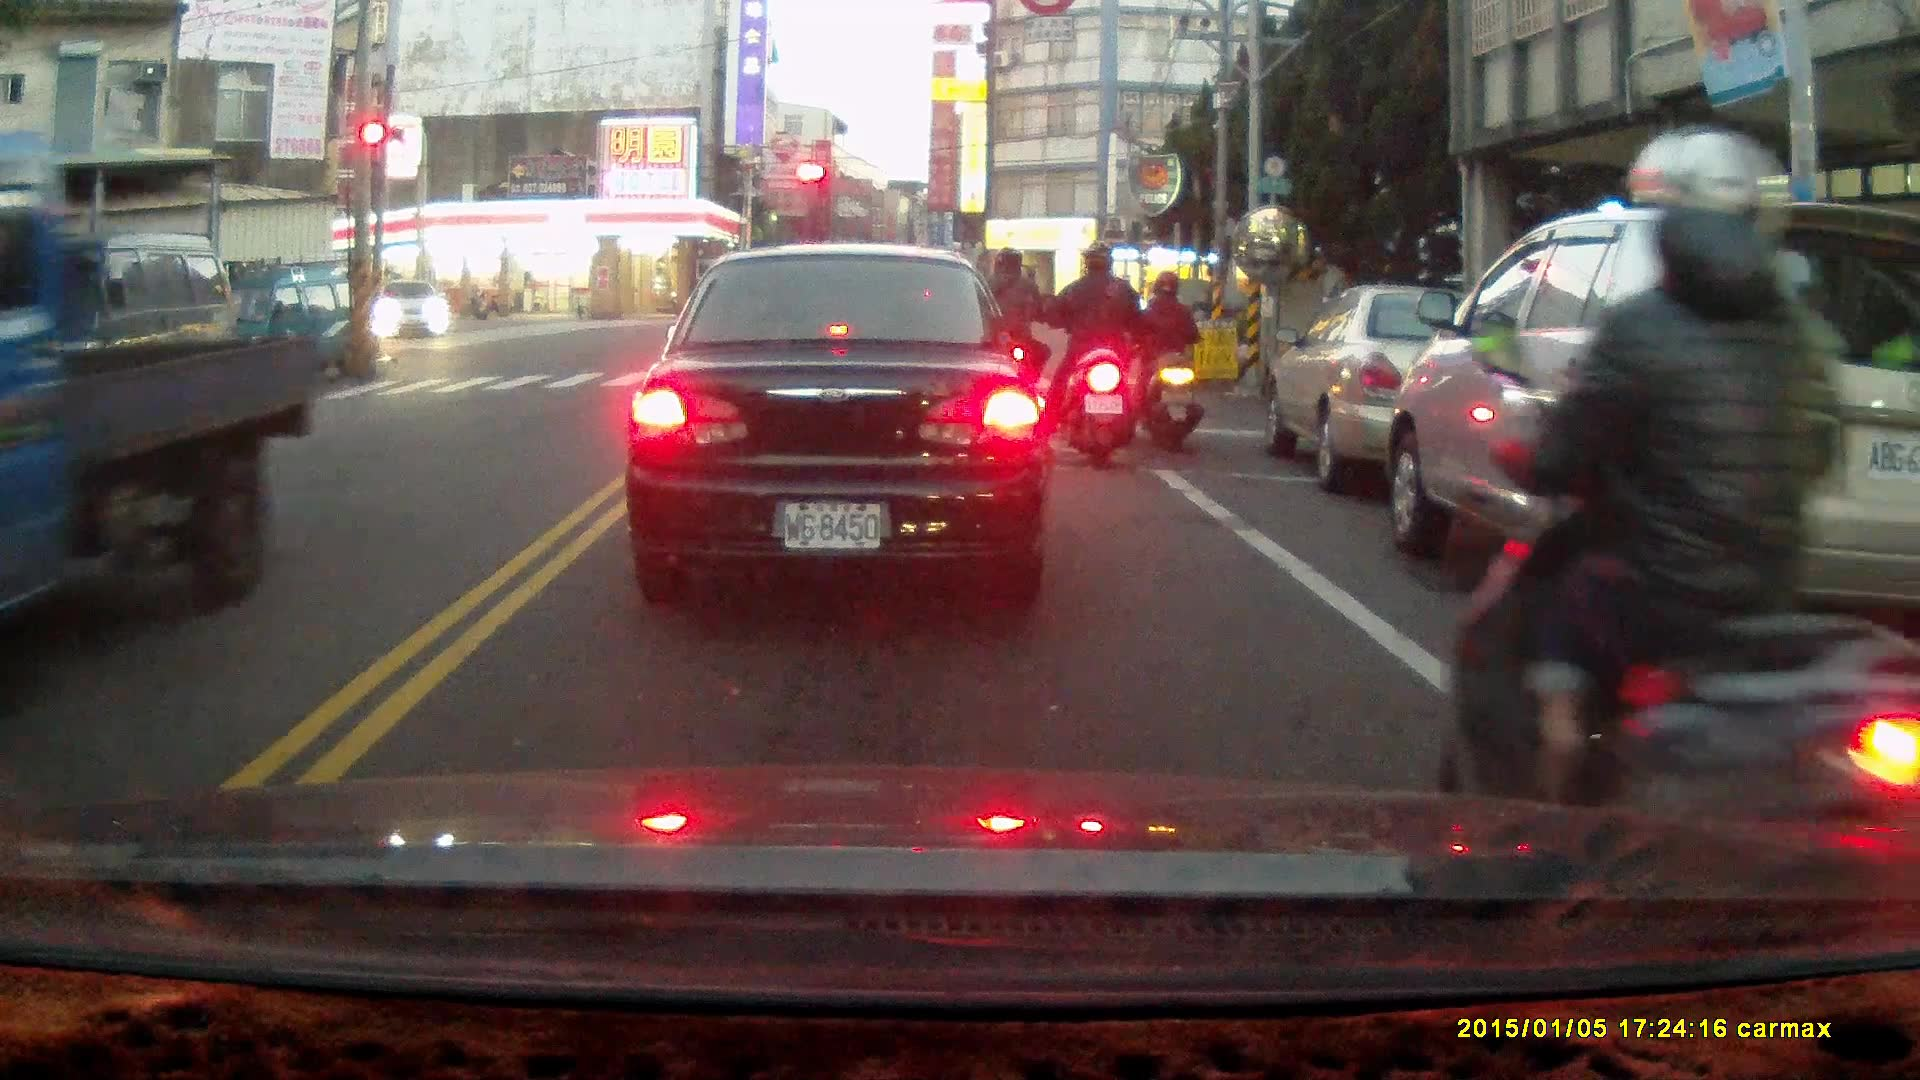rider: (1442, 125, 1920, 979), (1043, 243, 1144, 469), (964, 252, 1048, 432), (1134, 271, 1204, 451)
vehicle: (1379, 200, 1920, 683), (634, 248, 1044, 600), (1, 236, 322, 661), (1260, 288, 1580, 493), (197, 263, 385, 395), (372, 277, 451, 343)
